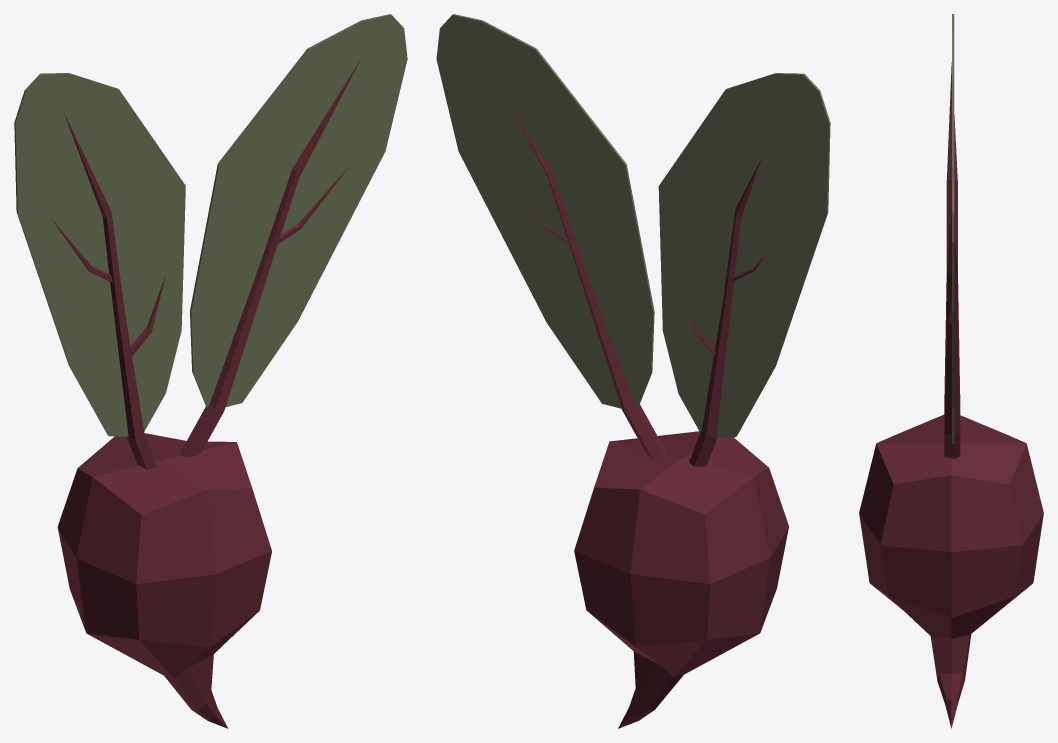
File: Beet_3.glb
3 views of the same model, side by side, from view 1: azimuth 30°, elevation 25°; view 2: azimuth 150°, elevation 25°; view 3: azimuth 270°, elevation 25° (orthographic). The views are drawn at different scales.
Visible parts, largest first — view 1: Beet_3; view 2: Beet_3; view 3: Beet_3.
Part boxes in pixels (x1,y1,x2,y2): Beet_3: (14, 14, 407, 728); Beet_3: (436, 14, 830, 728); Beet_3: (859, 14, 1043, 728).
Size of the model in its own units: 0.5093 by 0.8688 by 0.23.
